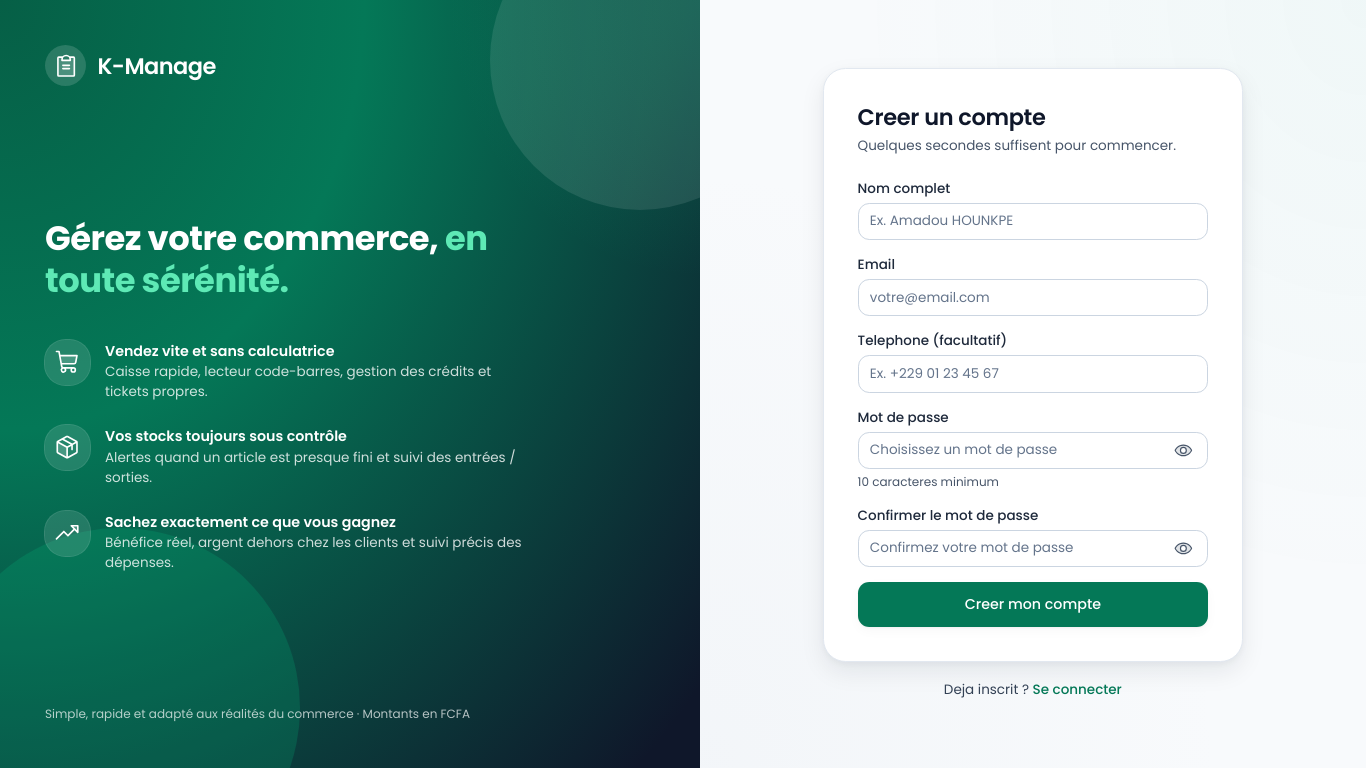
Test: authentification et navigation › redirige immédiatement après inscription vers la création de boutique
In the field labelled "Nom complet": (1033, 221) [858,203,1208,240], type "Awa Test"
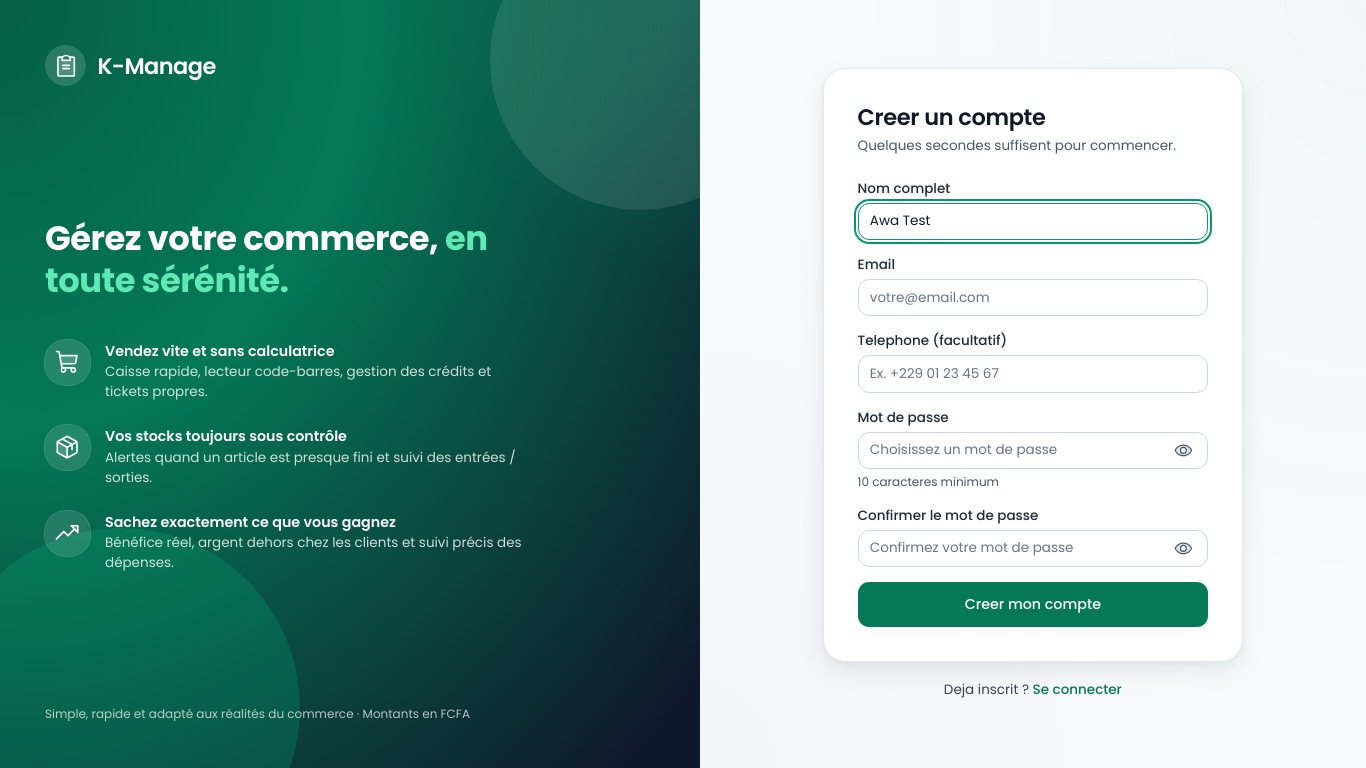
In the field labelled "Email": (1033, 298) [858,279,1208,316], type "a@b.bj"
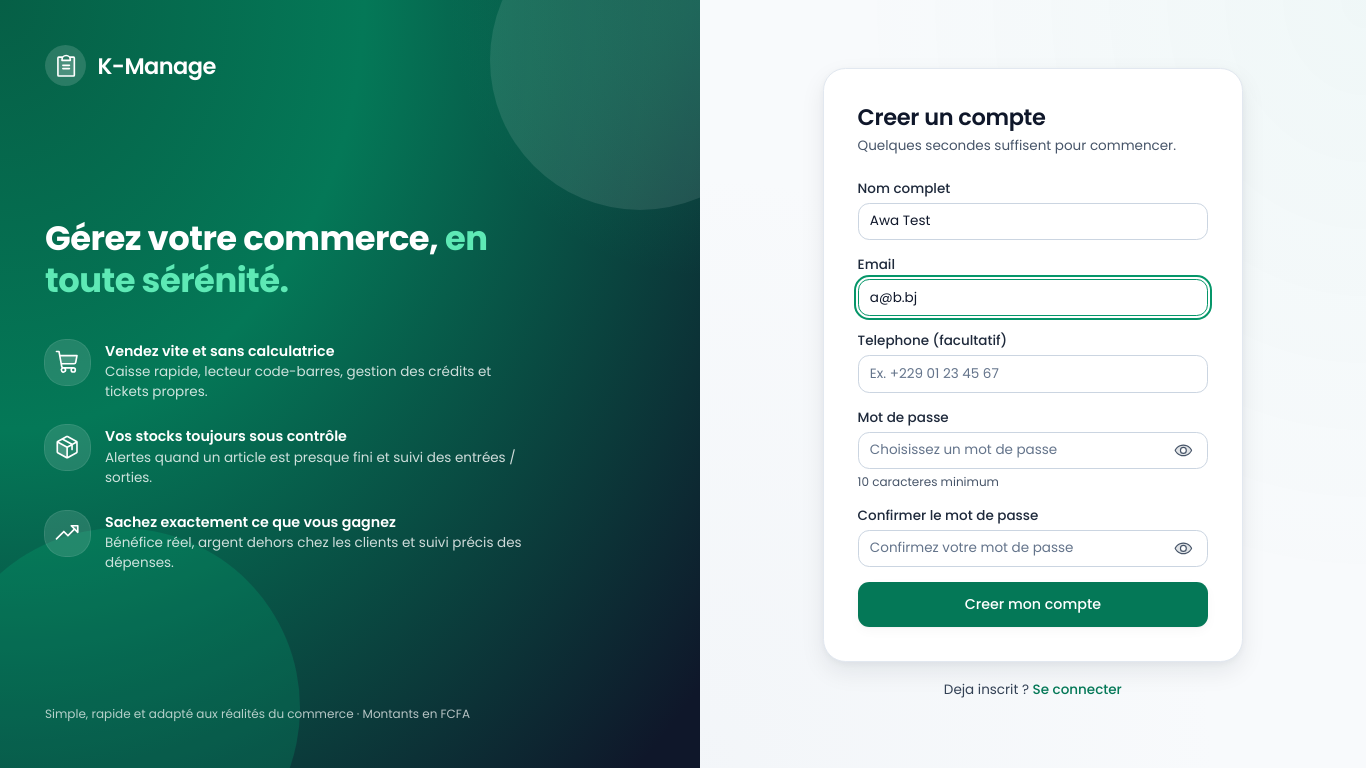
In the password field labelled "Mot de passe": (1033, 450) [858,432,1208,469], type "motdepasse123"
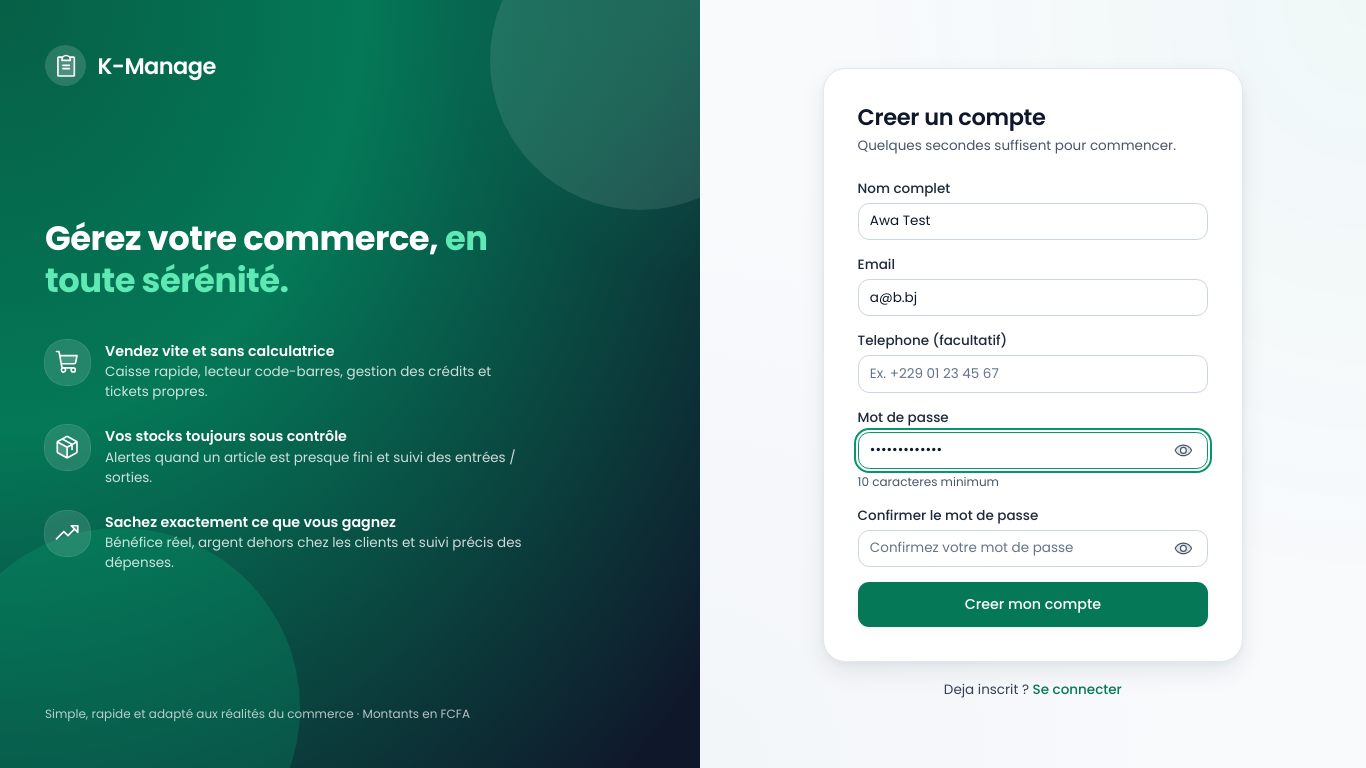
In the password field with placeholder "Confirmez votre mot de passe": (1033, 548) [858,530,1208,567], type "motdepasse123"
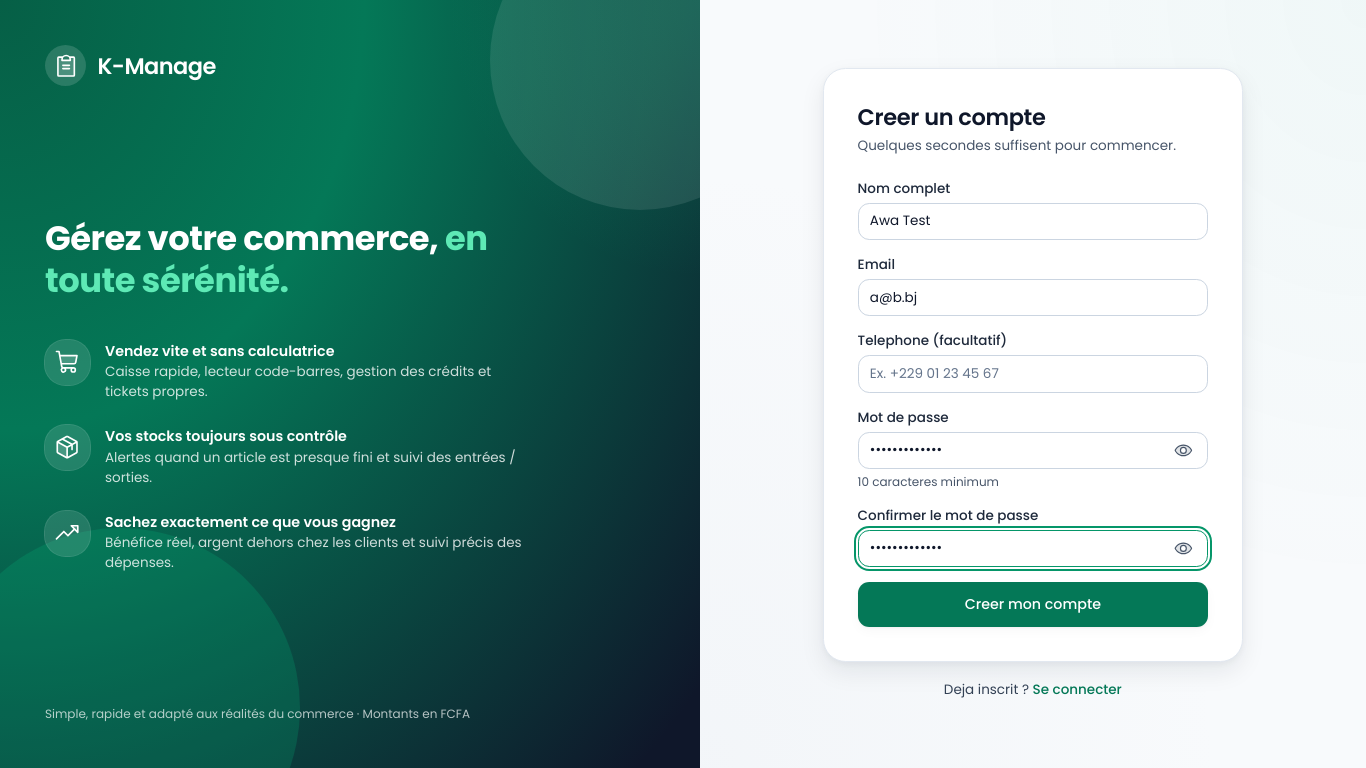
Click the button "Creer mon compte": (1033, 604) [858,582,1208,627]
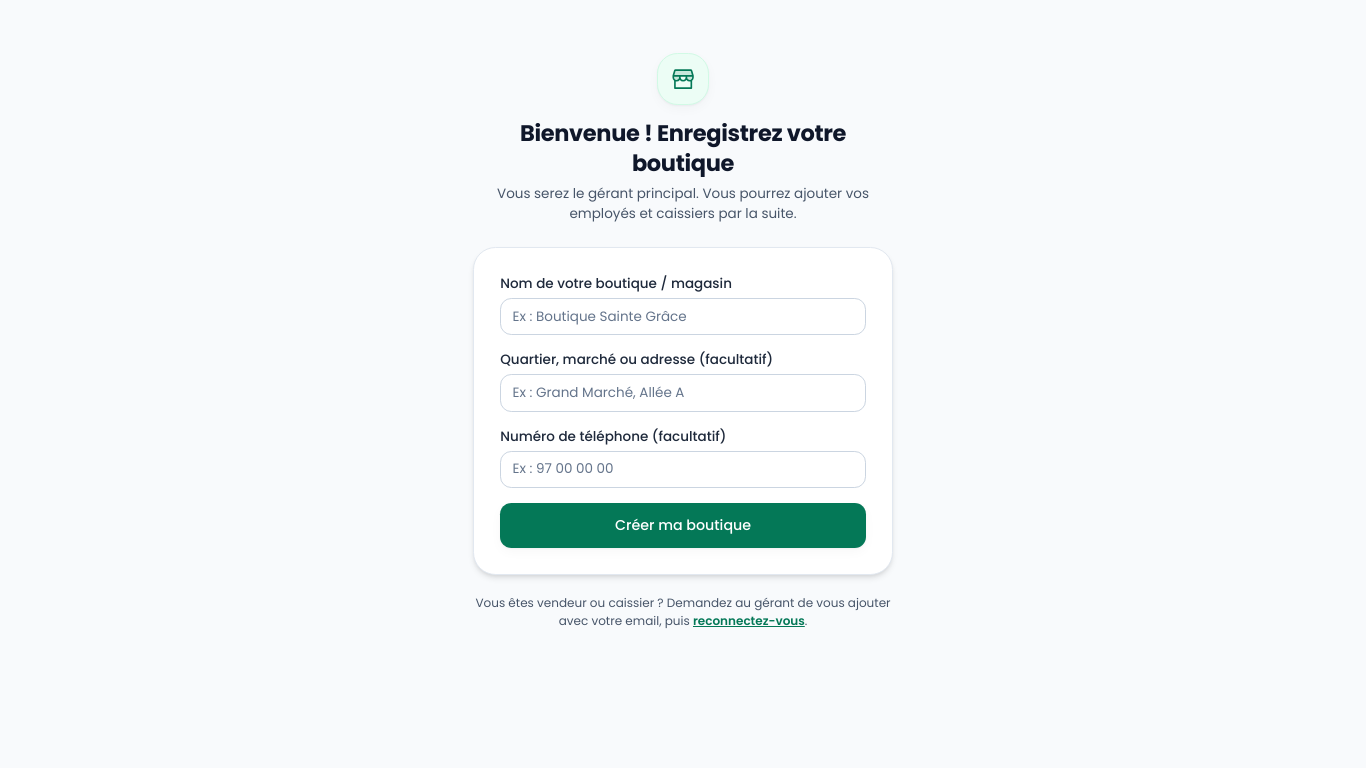
Expected: the heading "Bienvenue ! Enregistrez votre boutique" is shown, [520,117,846,179]
